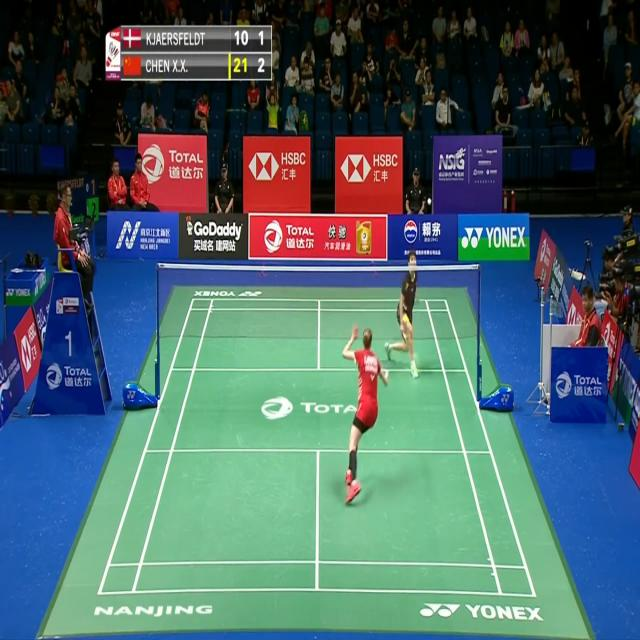Player1: (340, 321, 390, 506)
Player2: (385, 244, 419, 380)
